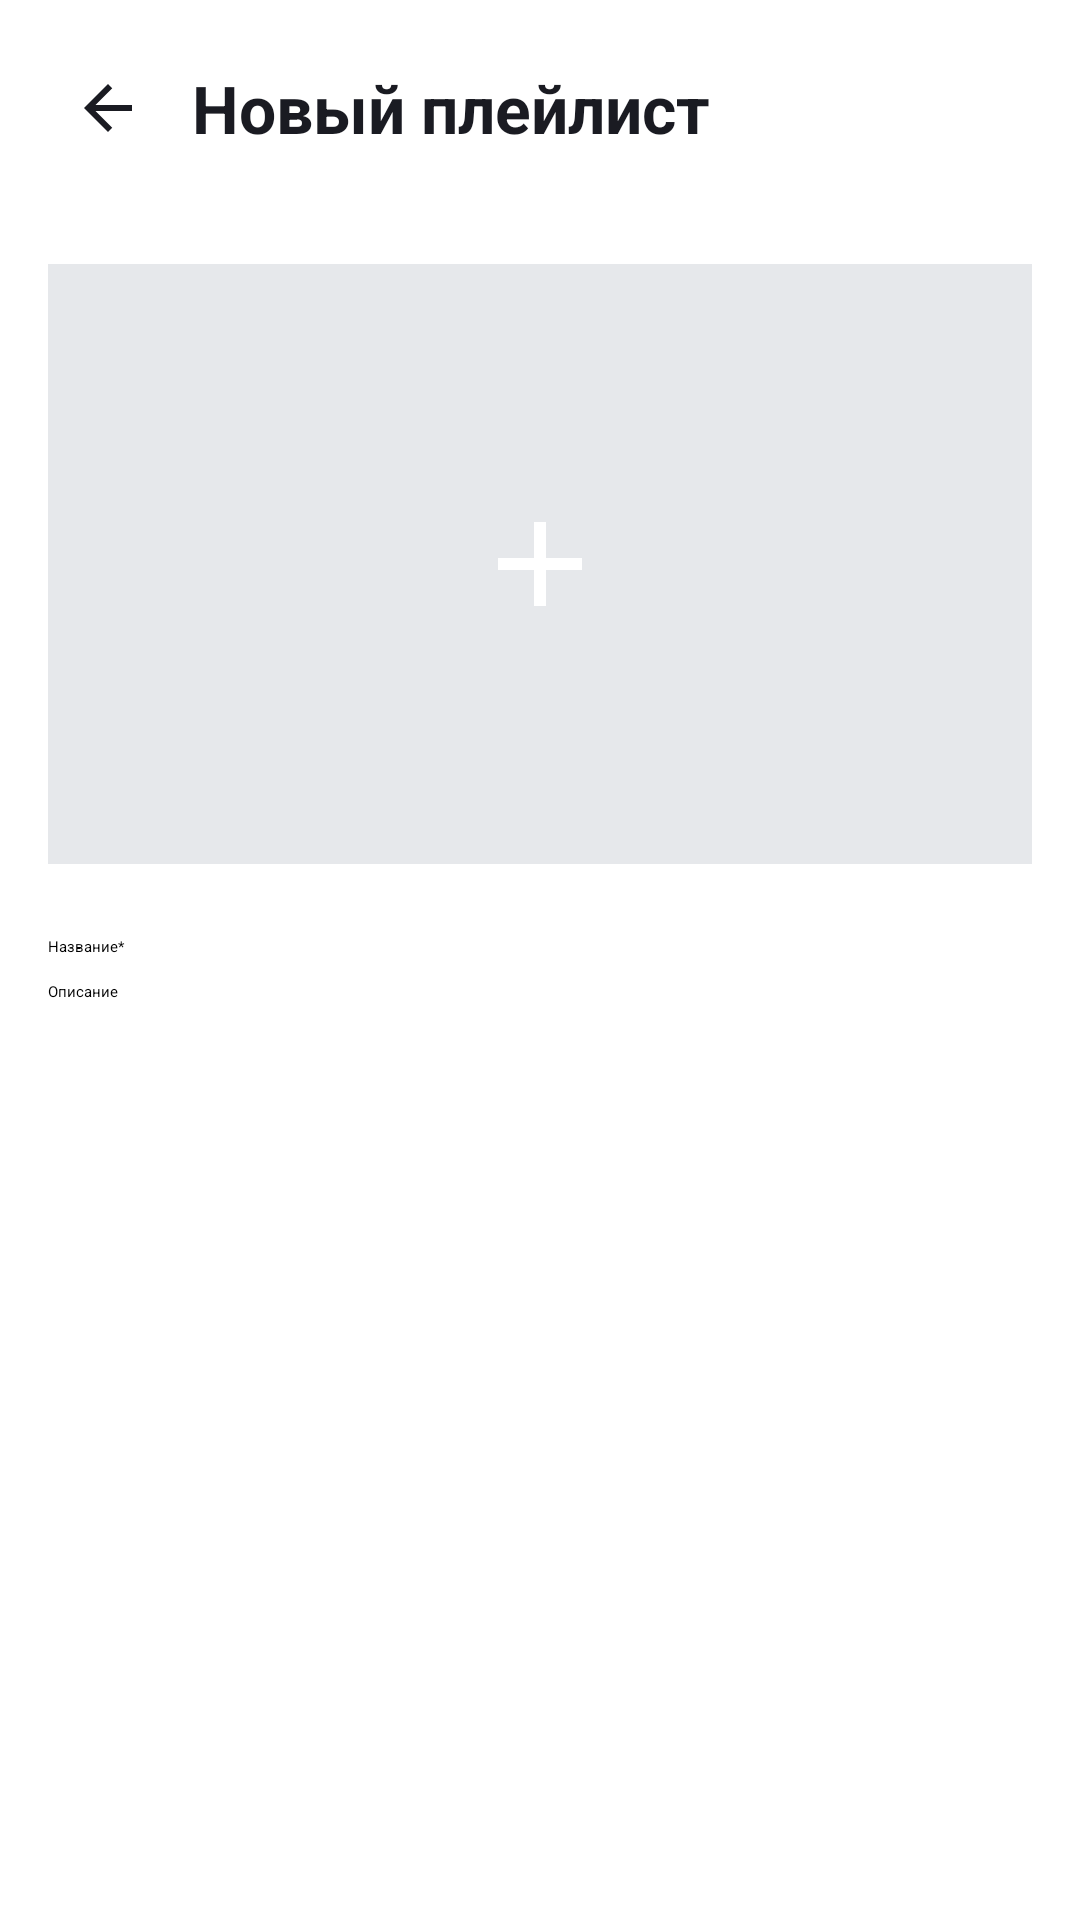

Icons on this 1080×1920 Android screen, each with its box as (x1, y1, x2, y2):
add: (498, 522, 582, 606)
Назад: (84, 84, 132, 132)
